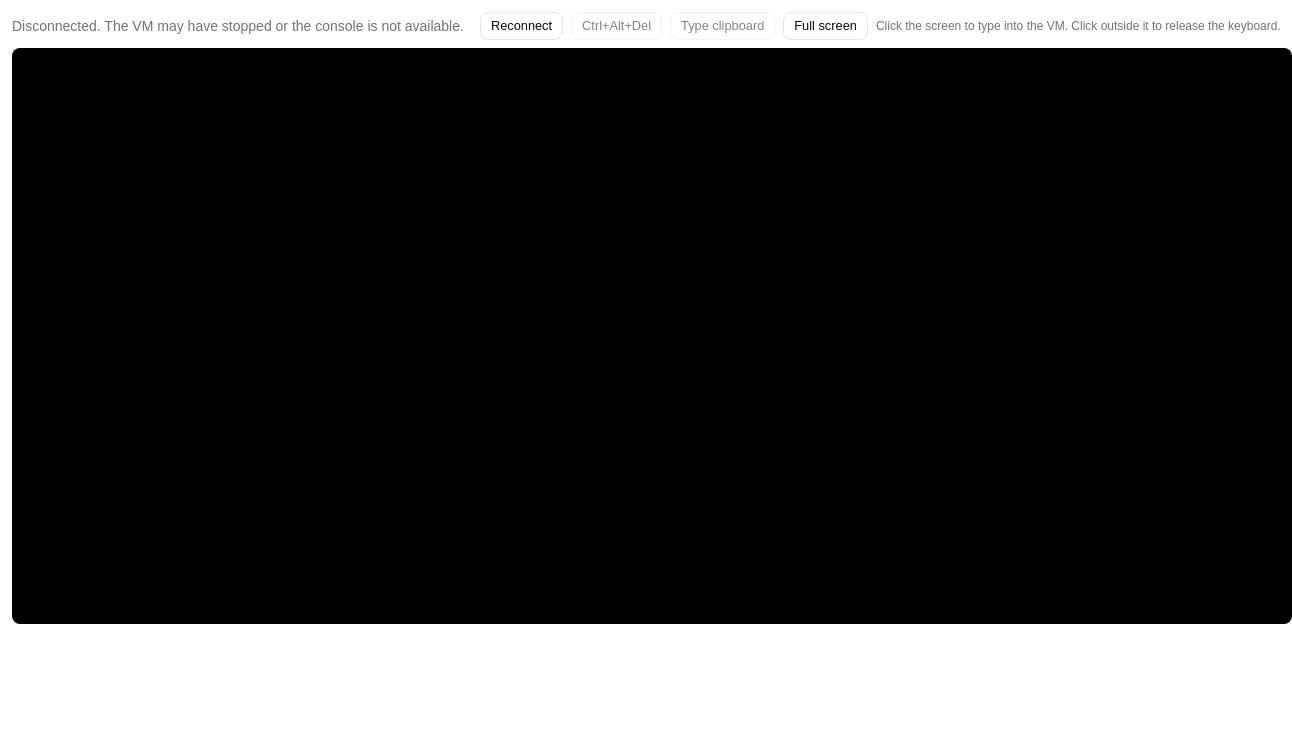
ignores a late disconnect from the previous connection
This screenshot has width=1292, height=732.
Click the button "Reconnect" at (522, 26), box [480,12,563,40]
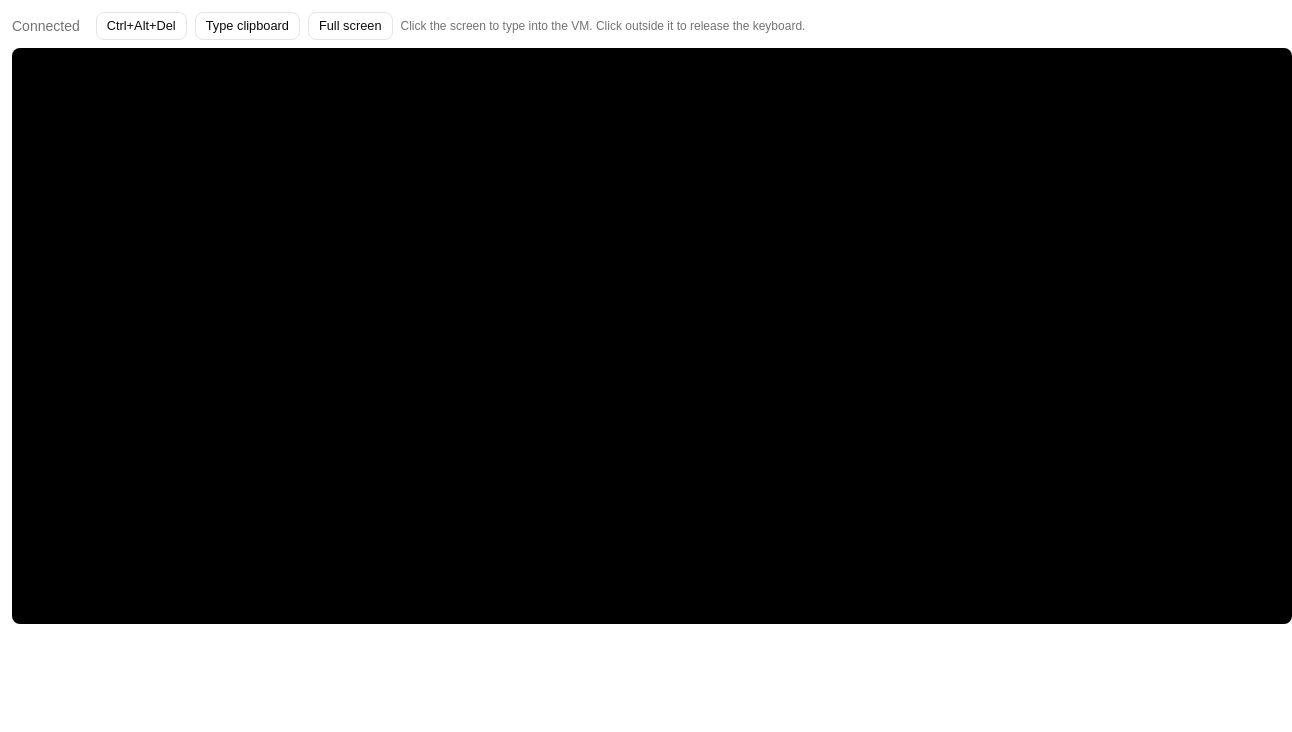
Expected: the text "Connected" is shown, [12,16,80,36]
Expected: the message reads "Connected", [12,18,80,34]
Expected: the button "Reconnect" is gone
